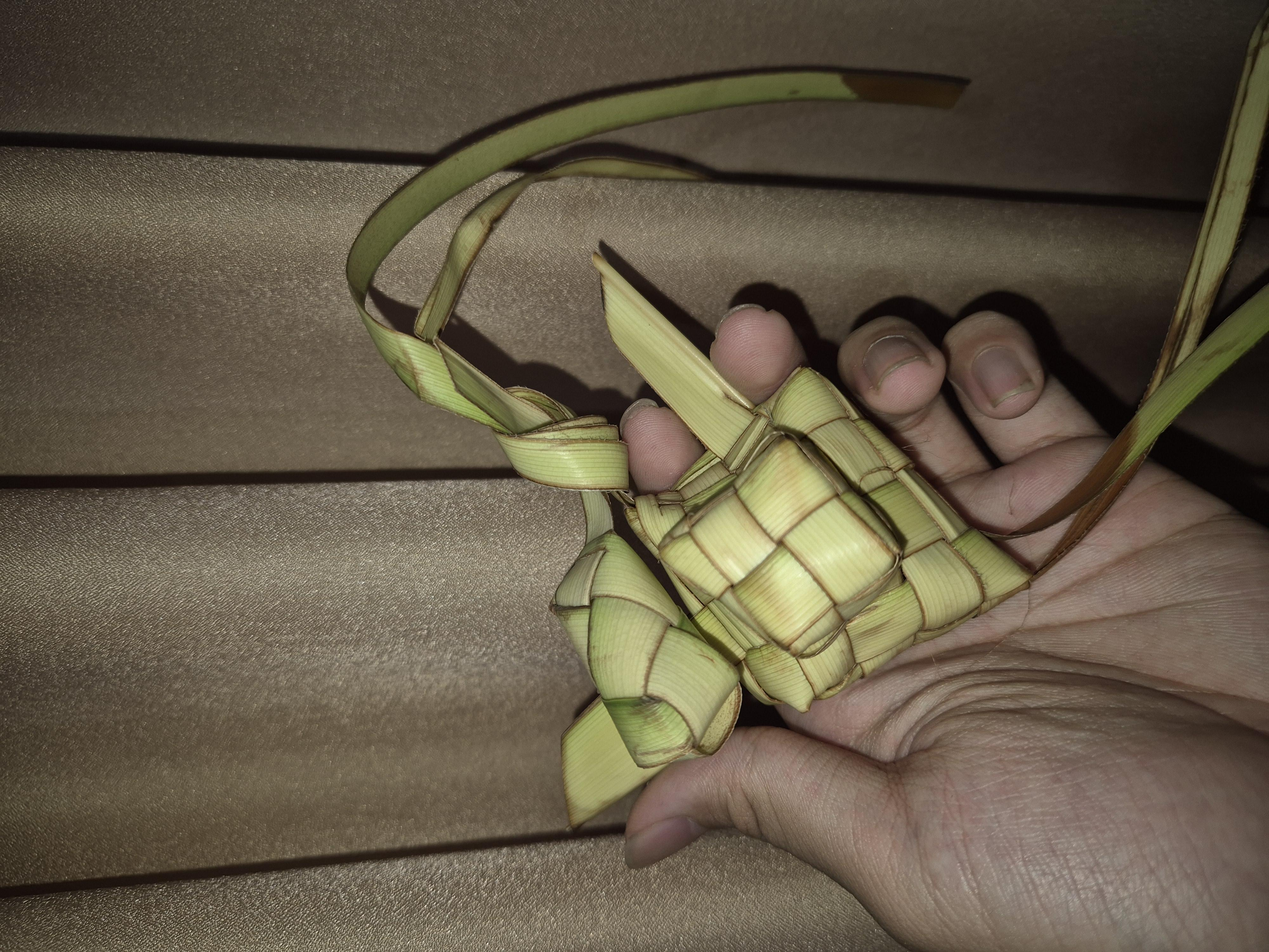Tipat Gong: (321, 470, 778, 772)
